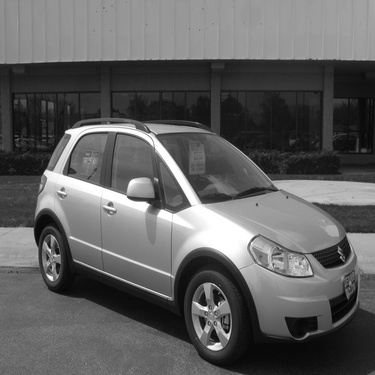car: (27, 113, 366, 365), (218, 125, 273, 164), (284, 122, 309, 156), (14, 133, 33, 160), (39, 130, 54, 152)
